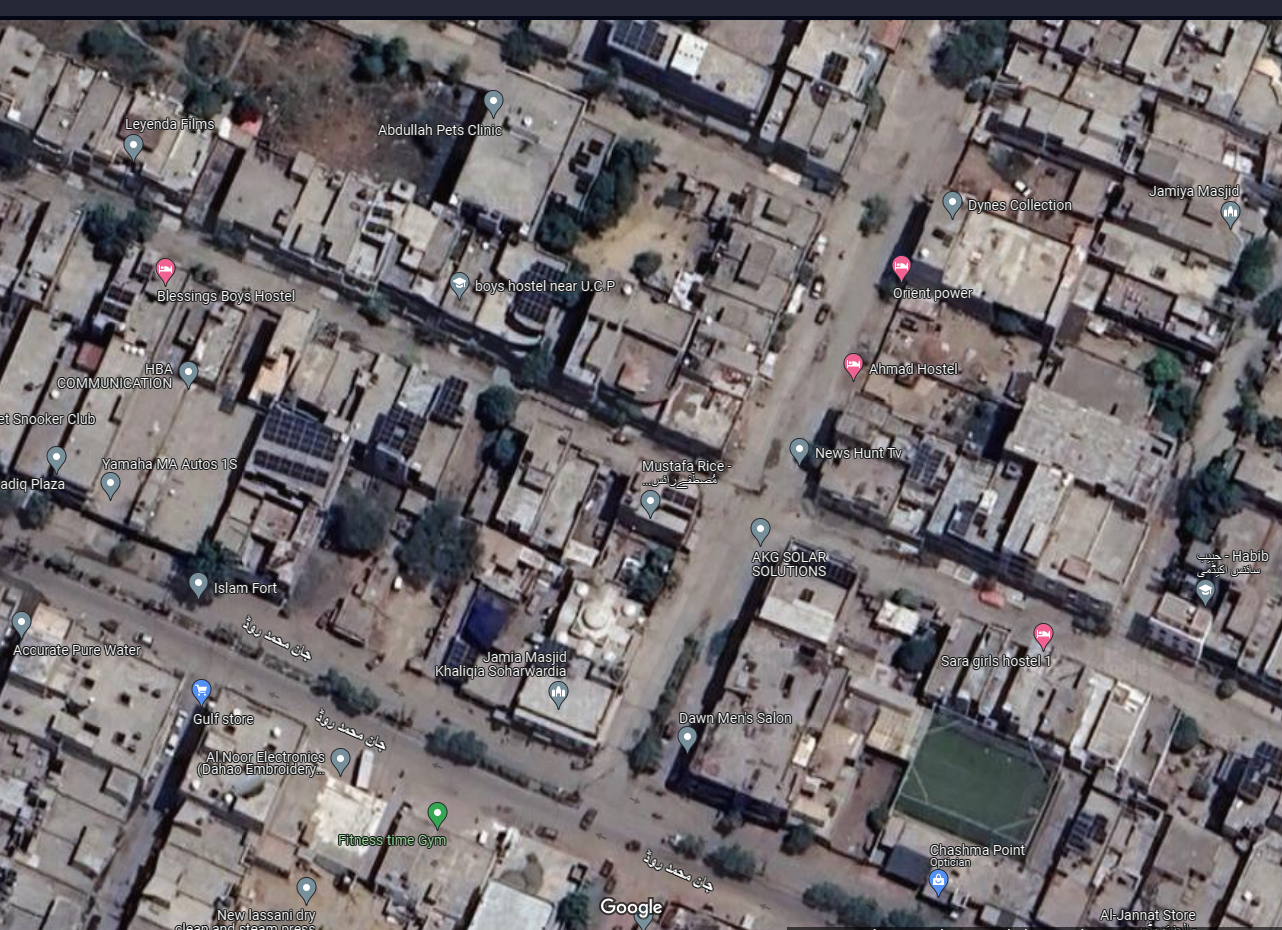solar-panel: (270, 406, 339, 484), (790, 546, 853, 588), (379, 412, 431, 460), (610, 20, 677, 54), (527, 268, 565, 310), (445, 377, 471, 436), (1253, 740, 1282, 789), (907, 445, 942, 484), (1066, 811, 1093, 855), (449, 637, 472, 679)
